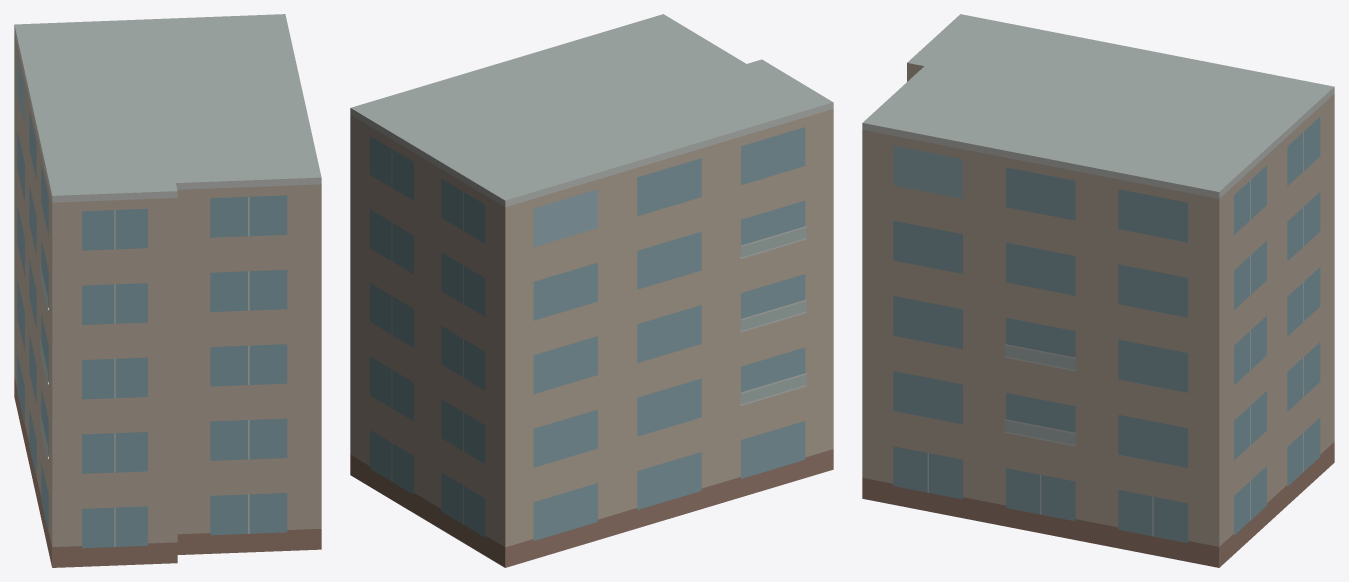
Rendered from survey-upis-33047596.glb.
3 views of the same model, side by side, from view 1: azimuth 30°, elevation 25°; view 2: azimuth 150°, elevation 25°; view 3: azimuth 270°, elevation 25° (orthographic). The views are drawn at different scales.
Parts seen in each view (by area): view 1: survey-upis-33047596.tmp; view 2: survey-upis-33047596.tmp; view 3: survey-upis-33047596.tmp.
Part boxes in pixels (x1,y1,x2,y2): survey-upis-33047596.tmp: (14, 14, 321, 567); survey-upis-33047596.tmp: (350, 14, 833, 567); survey-upis-33047596.tmp: (862, 14, 1334, 567).
Size of the model in its own units: 13.63 by 13.4 by 15.27.
